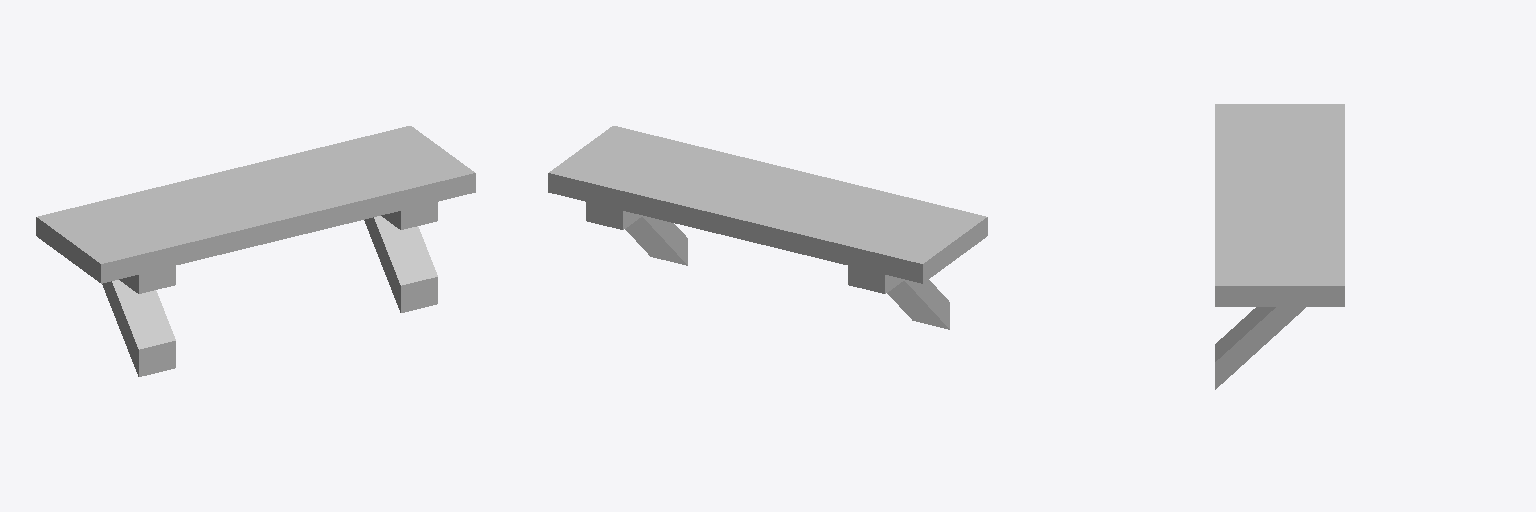
The model's file is overhang.obj.
3 views of the same model, side by side, from view 1: azimuth 30°, elevation 25°; view 2: azimuth 150°, elevation 25°; view 3: azimuth 270°, elevation 25° (orthographic).
Parts seen in each view (by area): view 1: overhang; view 2: overhang; view 3: overhang.
Part boxes in pixels (x1,y1,x2,y2): overhang: (36, 126, 475, 376); overhang: (548, 126, 987, 329); overhang: (1215, 104, 1344, 389).
Bounding box in the file's own units: 1 × 0.3121 × 0.3.